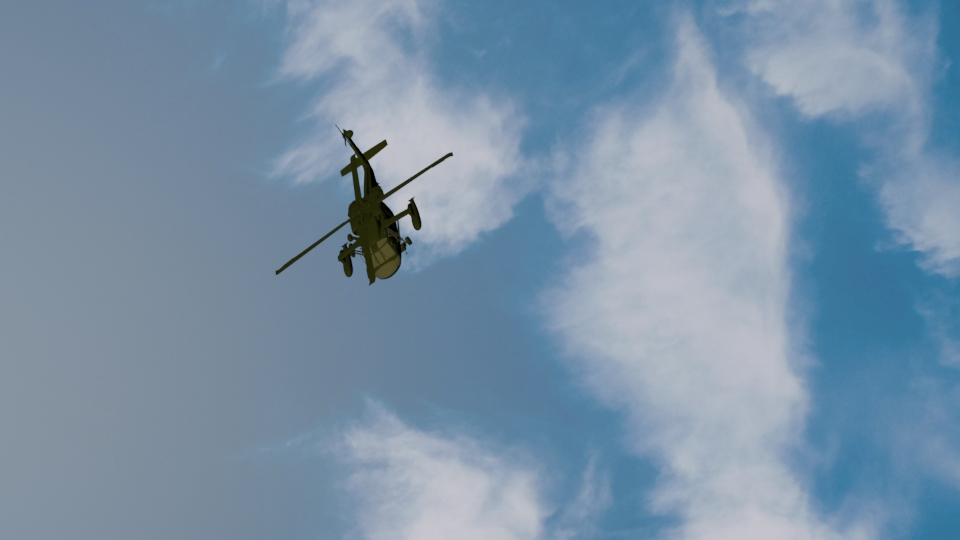heli: (273, 125, 455, 286)
